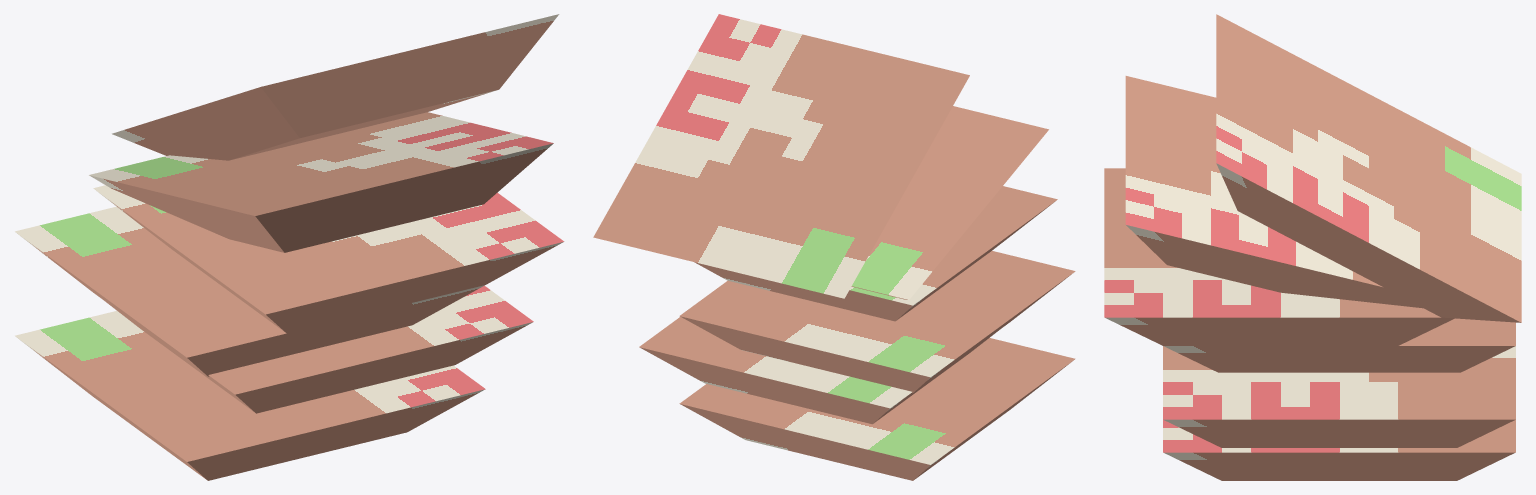
The model's file is Assiettes.glb.
3 renders of one model, left to right at view 1: azimuth 30°, elevation 25°; view 2: azimuth 150°, elevation 25°; view 3: azimuth 270°, elevation 25°, orthographic. The views are drawn at different scales.
Parts seen in each view (by area): view 1: Mesh_133; view 2: Mesh_133; view 3: Mesh_133.
Boxes of the visible parts, x1=… form: Mesh_133: x1=15, y1=14, x2=564, y2=480; Mesh_133: x1=593, y1=14, x2=1075, y2=480; Mesh_133: x1=1104, y1=14, x2=1521, y2=480.
Bounding box in the file's own units: 2 × 1.84 × 1.77.
1 material, 1 textured.
